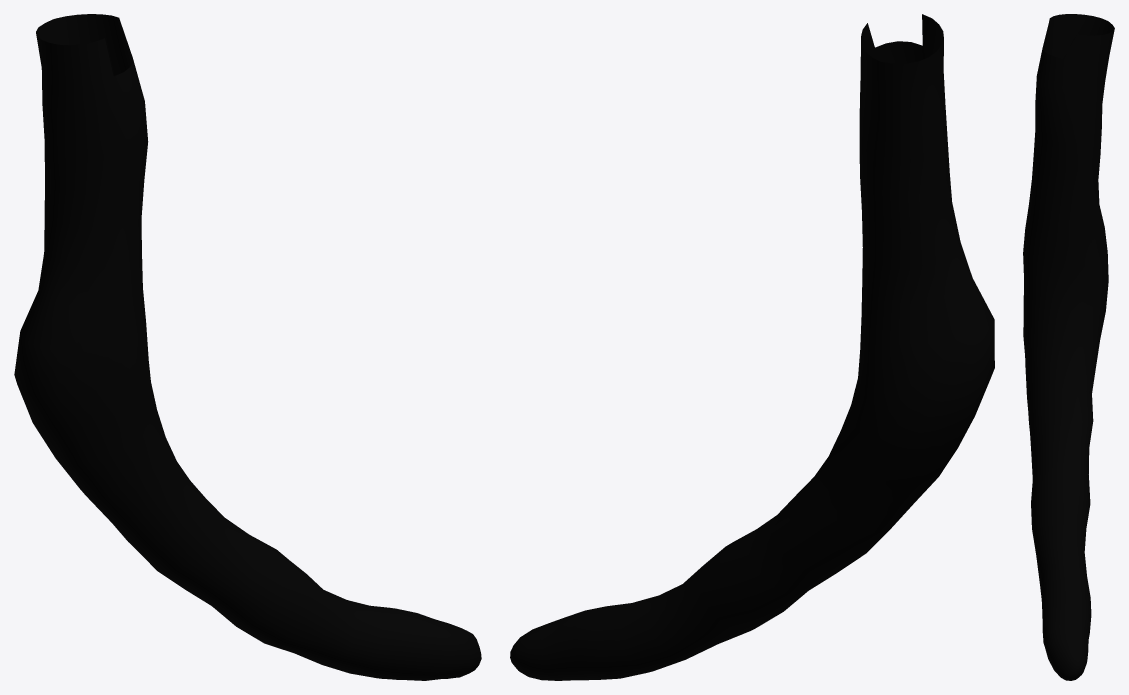
File: Pie2A2.obj
3 renders of one model, left to right at view 1: azimuth 30°, elevation 25°; view 2: azimuth 150°, elevation 25°; view 3: azimuth 270°, elevation 25°, orthographic. The views are drawn at different scales.
Visible parts, largest first — view 1: Pie2A2; view 2: Pie2A2; view 3: Pie2A2.
Part boxes in pixels (x1,y1,x2,y2): Pie2A2: (14,14,481,680); Pie2A2: (510,14,994,680); Pie2A2: (1023,14,1114,680).
Size of the model in its own units: 0.4149 by 0.629 by 0.0989.
Materials: 1 (1 with a texture image).
